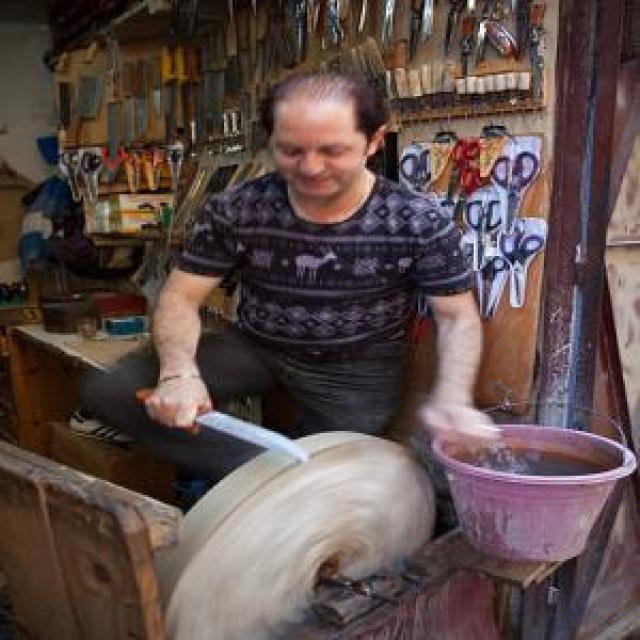knife: (137, 388, 316, 462)
